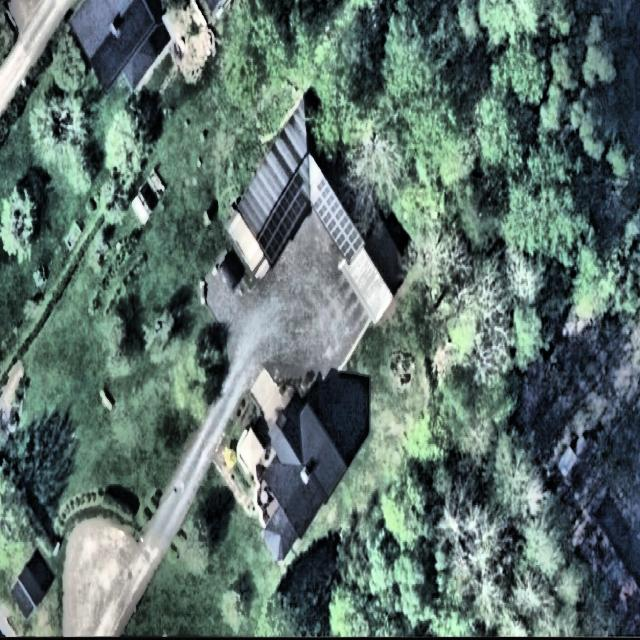roof_pv: (258, 173, 308, 267), (312, 178, 365, 266)
